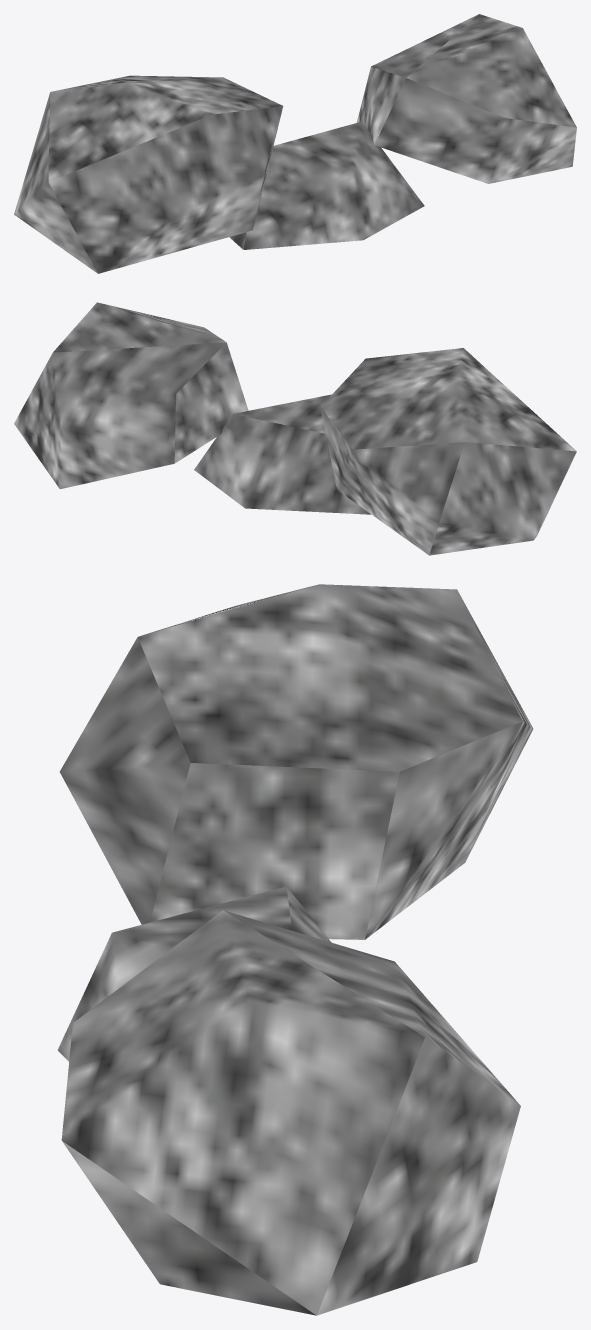
Rendered from rock_jclump2.glb.
The picture shows the model from 3 angles, top to bottom: view 1: azimuth 30°, elevation 25°; view 2: azimuth 150°, elevation 25°; view 3: azimuth 270°, elevation 25°; orthographic projection. The views are drawn at different scales.
Parts seen in each view (by area): view 1: Rock_JClump2; view 2: Rock_JClump2; view 3: Rock_JClump2.
Boxes of the visible parts, box(x1,y1,x2,y2) form: Rock_JClump2: box(14, 14, 576, 273); Rock_JClump2: box(14, 302, 576, 555); Rock_JClump2: box(57, 584, 533, 1315).
Bounding box in the file's own units: 21.4 × 6.19 × 8.12.
Materials: 1 (1 with a texture image).
